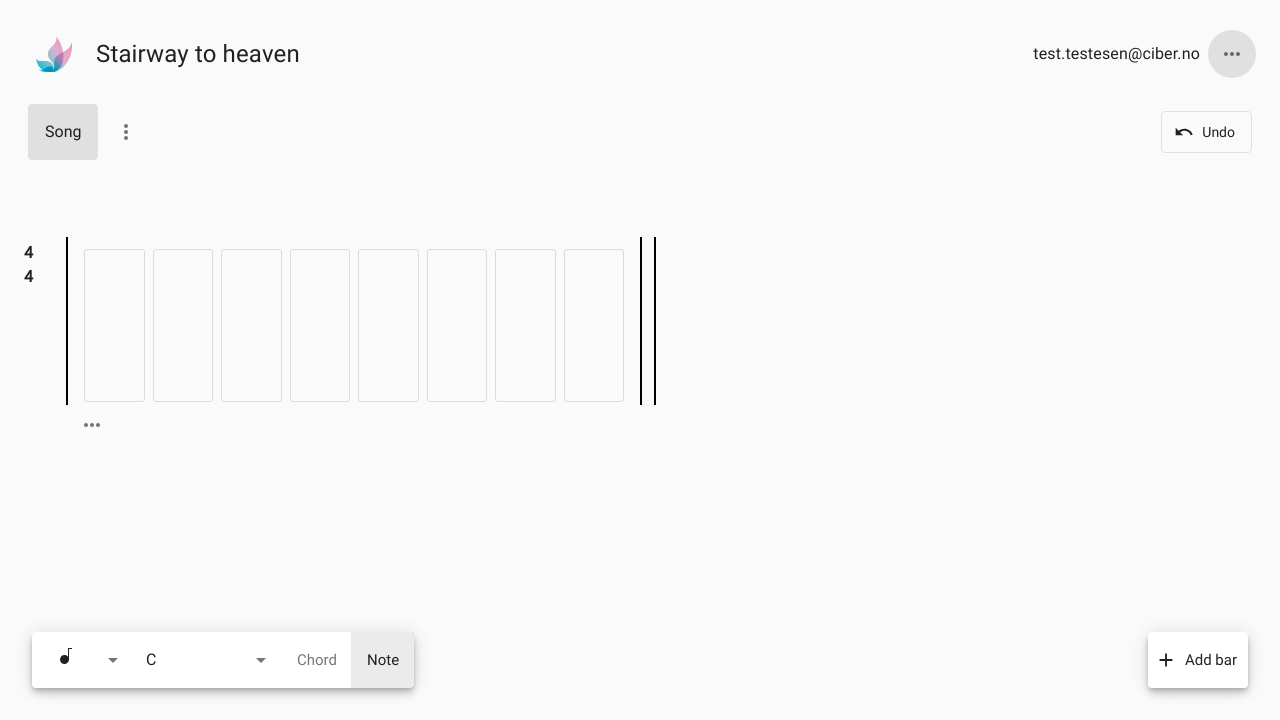
SongView › Should add note D
The image size is (1280, 720).
Check: the tab "Song" is shown, box [28,104,98,160]
Click the button "Note" at (383, 660), box [351,632,414,688]
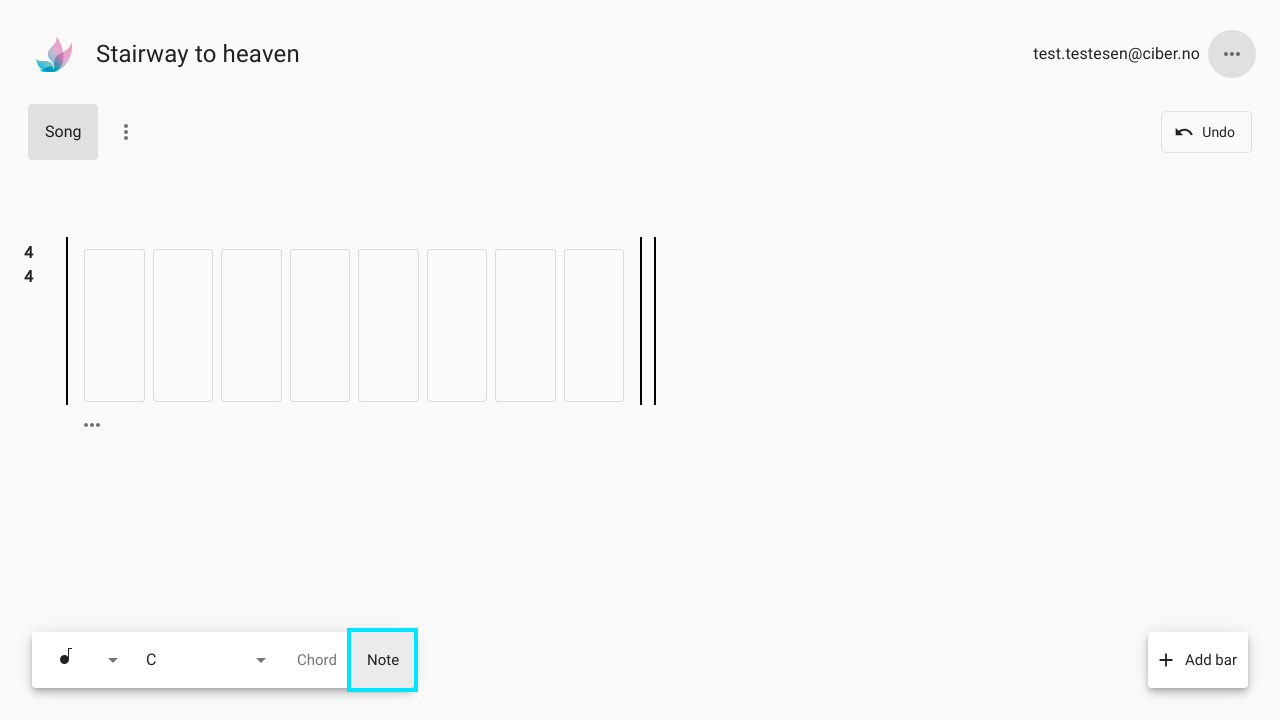
Click the dropdown named "Select note" at (179, 659), box [141,640,217,678]
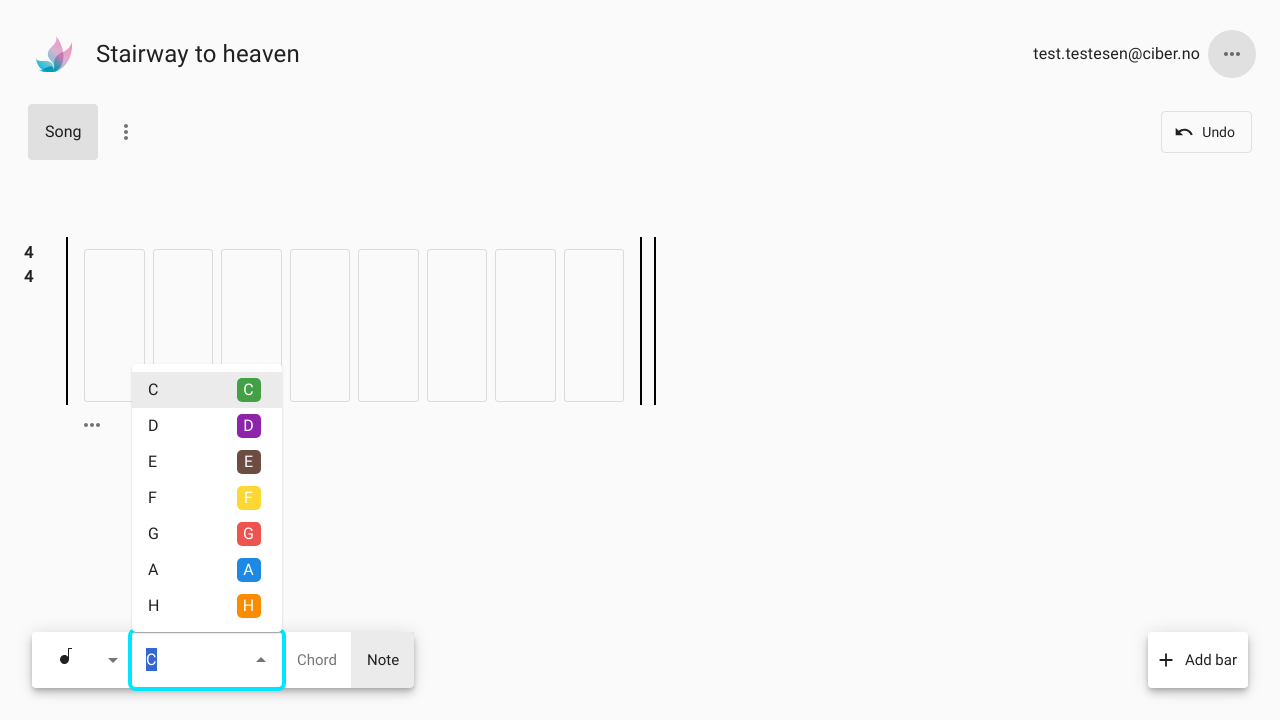
Click the option "D D" at (153, 426), box [148,414,260,438]
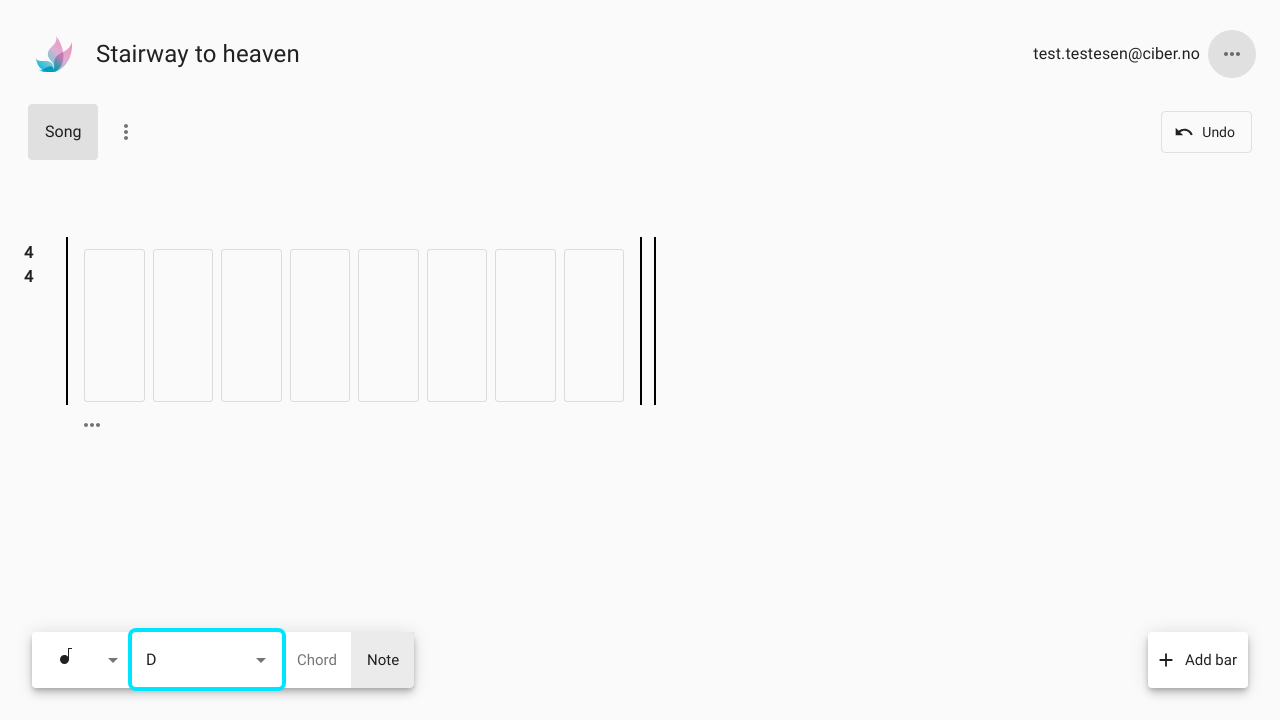
Check: the dropdown named "Select note" holds "D", box [141,640,217,678]
Click the 1st button named "Empty, click to create chord or note" at (114, 325), box [84,248,144,402]
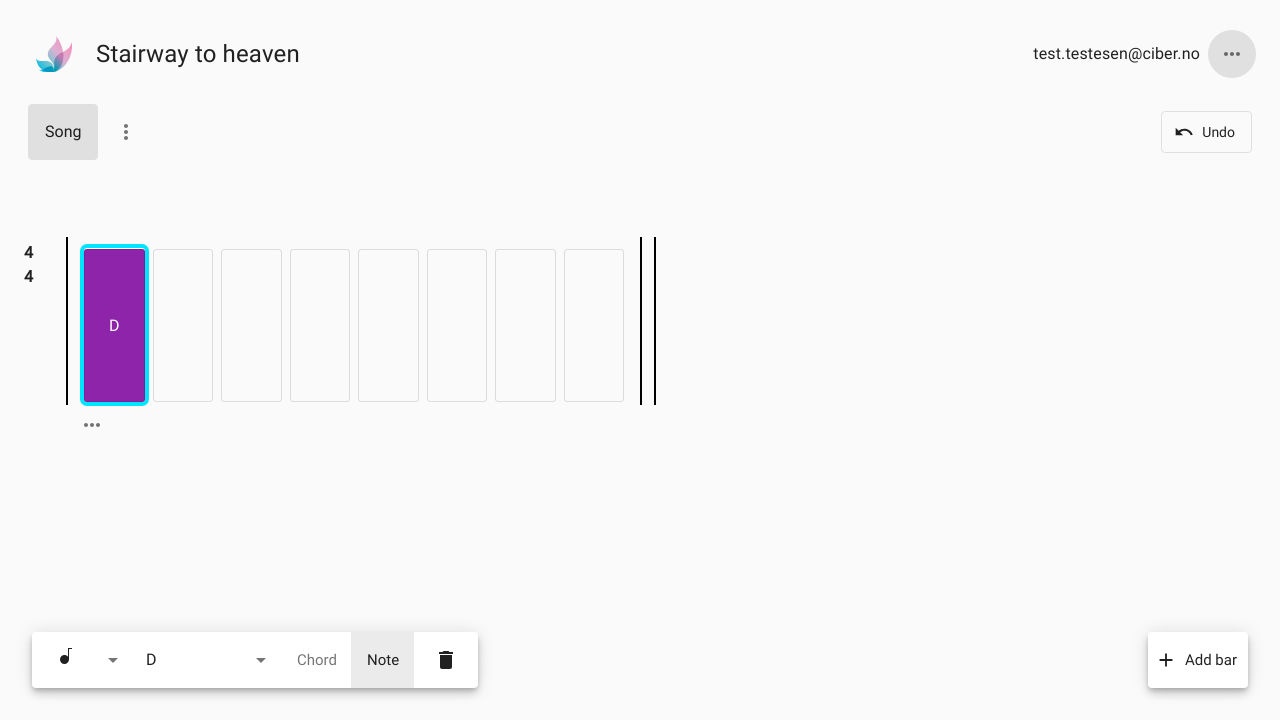
Check: the button "D" is shown, box [84,248,144,402]
